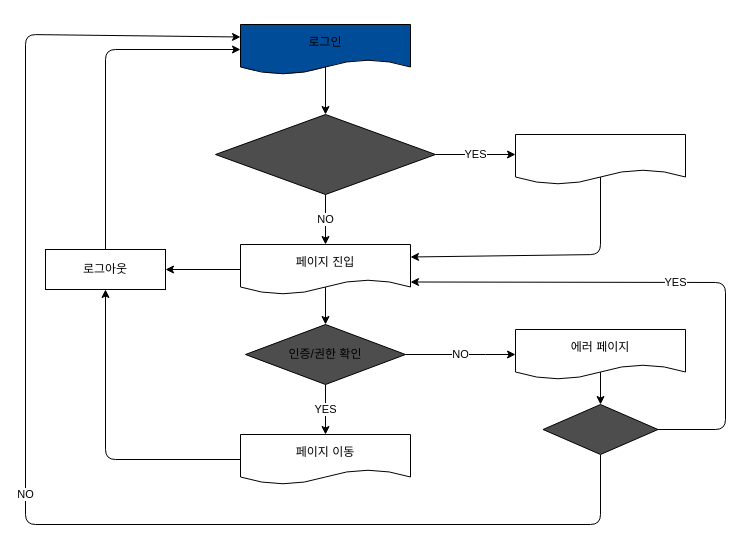
Image size: 751x550. Some labels were removed from this diagram. Here are the shapes that lost their labels. From the top down, the centre of each, then its label:
At (x=325, y=154): "ENV 최초 비밀번호 'true', 최초 비밀번호 설정 전".
At (x=600, y=159): "최초 비밀번호 설정".
At (x=600, y=429): "인증".
